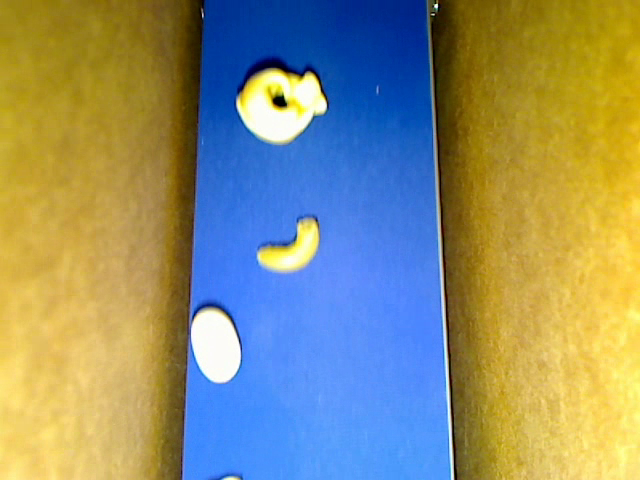elbow: (256, 217, 320, 273)
tortellini: (236, 69, 326, 143)
